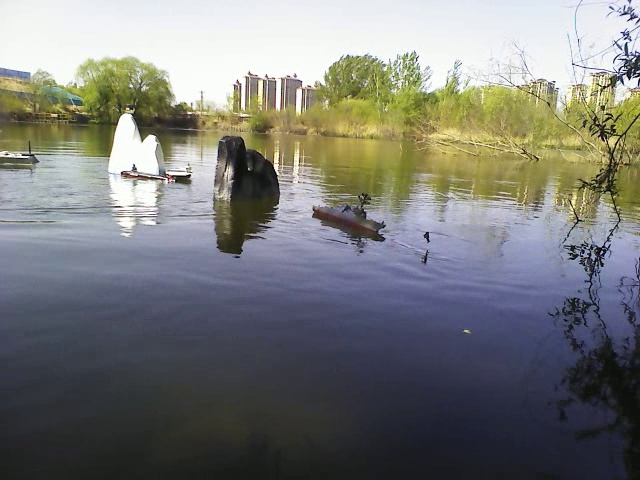aircraft_carrier: (165, 155, 197, 183)
boat: (2, 143, 44, 171)
iceberg: (105, 103, 169, 171)
rock: (210, 127, 286, 209)
submarine: (120, 167, 176, 183)
warship: (310, 192, 390, 233)
